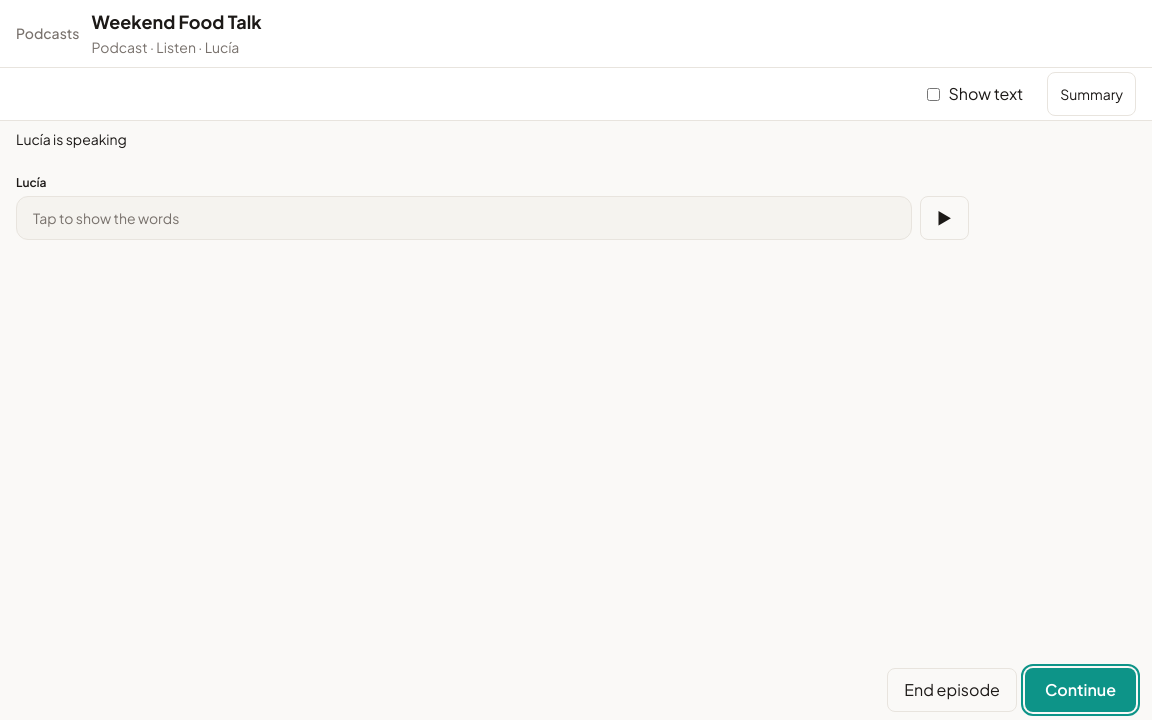
Test: PodcastEpisode page — Listen › hides the words of a line until it is tapped
The image size is (1152, 720).
Click the button with aria-label "Show Lucía's line" at (106, 218), box top-left (16, 196), bottom-right (912, 240)
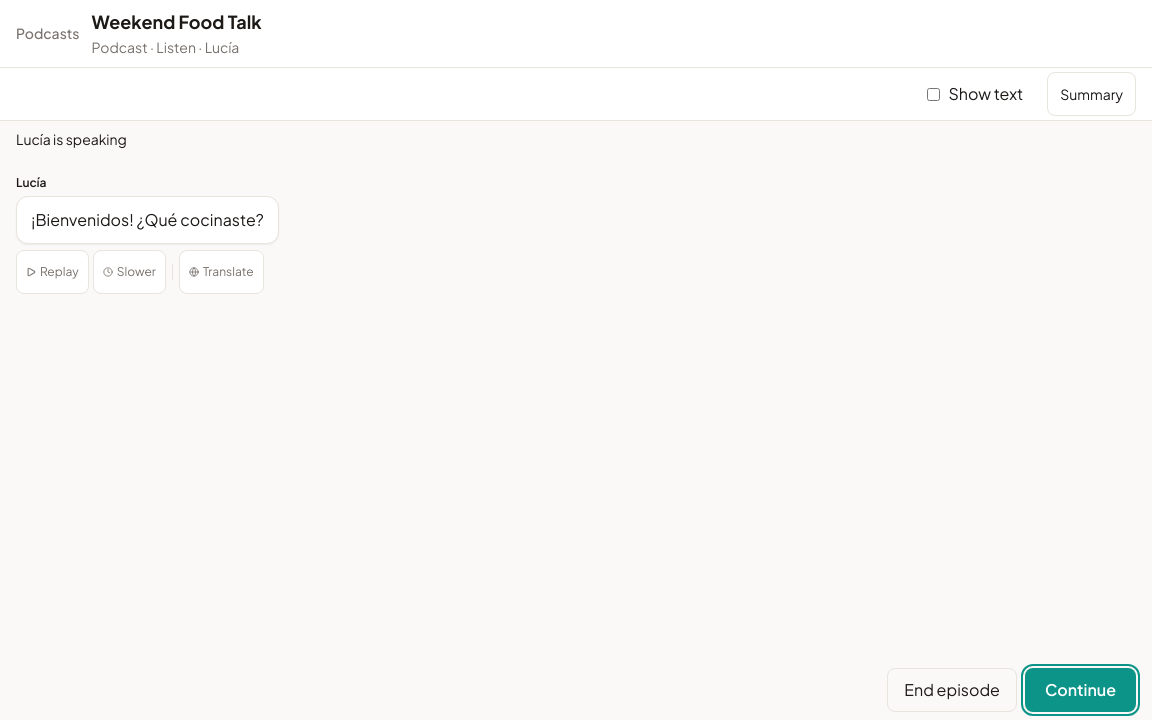
Check: the text "¡Bienvenidos! ¿Qué cocinaste?" is shown, box top-left (31, 209), bottom-right (264, 230)
